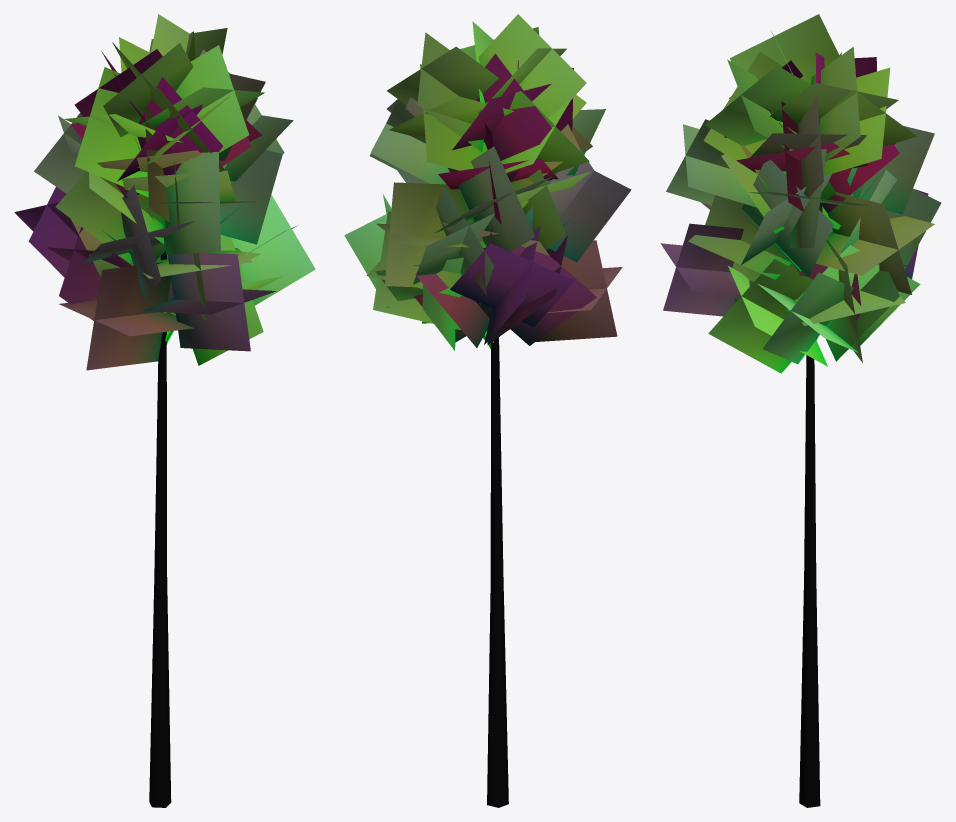
The model's file is URP_P5_Tree_4_LOD_3.fbx.
3 renders of one model, left to right at view 1: azimuth 30°, elevation 25°; view 2: azimuth 150°, elevation 25°; view 3: azimuth 270°, elevation 25°, orthographic.
Parts seen in each view (by area): view 1: Tree_4_LOD_3; view 2: Tree_4_LOD_3; view 3: Tree_4_LOD_3.
Part boxes in pixels (<box>): Tree_4_LOD_3: <box>14,14,315,807</box>; Tree_4_LOD_3: <box>344,14,631,807</box>; Tree_4_LOD_3: <box>660,14,941,807</box>.
Bounding box in the file's own units: 239 × 706 × 233.
